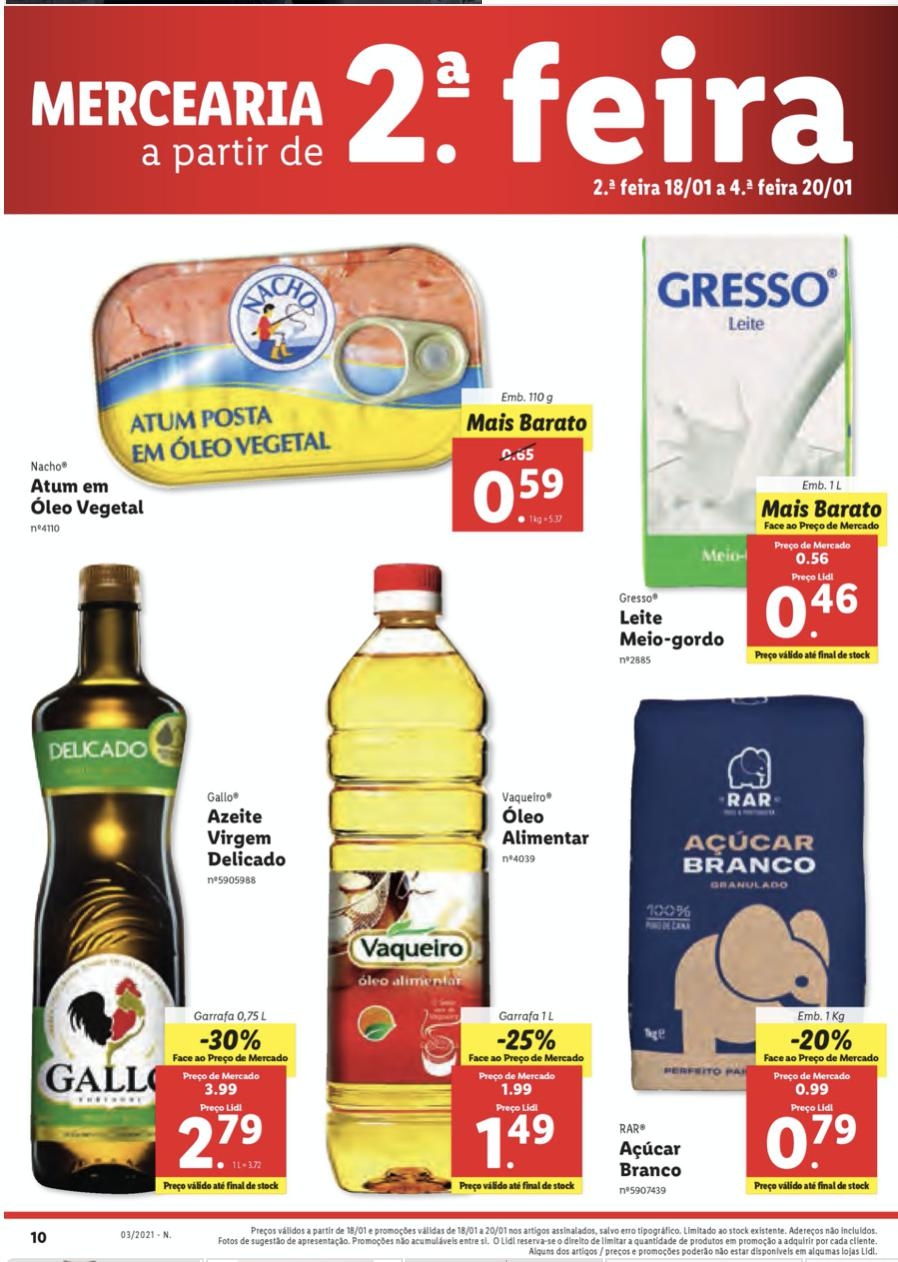name: (25, 474, 153, 522), (613, 602, 724, 655), (205, 807, 284, 866), (499, 802, 591, 849), (614, 1135, 691, 1183)
price: (759, 1094, 866, 1182), (763, 567, 869, 649), (474, 1097, 564, 1180), (469, 458, 572, 528), (177, 1100, 269, 1177)
product: (14, 230, 616, 547), (297, 560, 586, 1200), (27, 564, 289, 1210), (606, 680, 888, 1202), (606, 224, 888, 680)
promotion: (194, 1024, 264, 1057), (789, 1027, 855, 1057), (492, 1025, 561, 1053)
